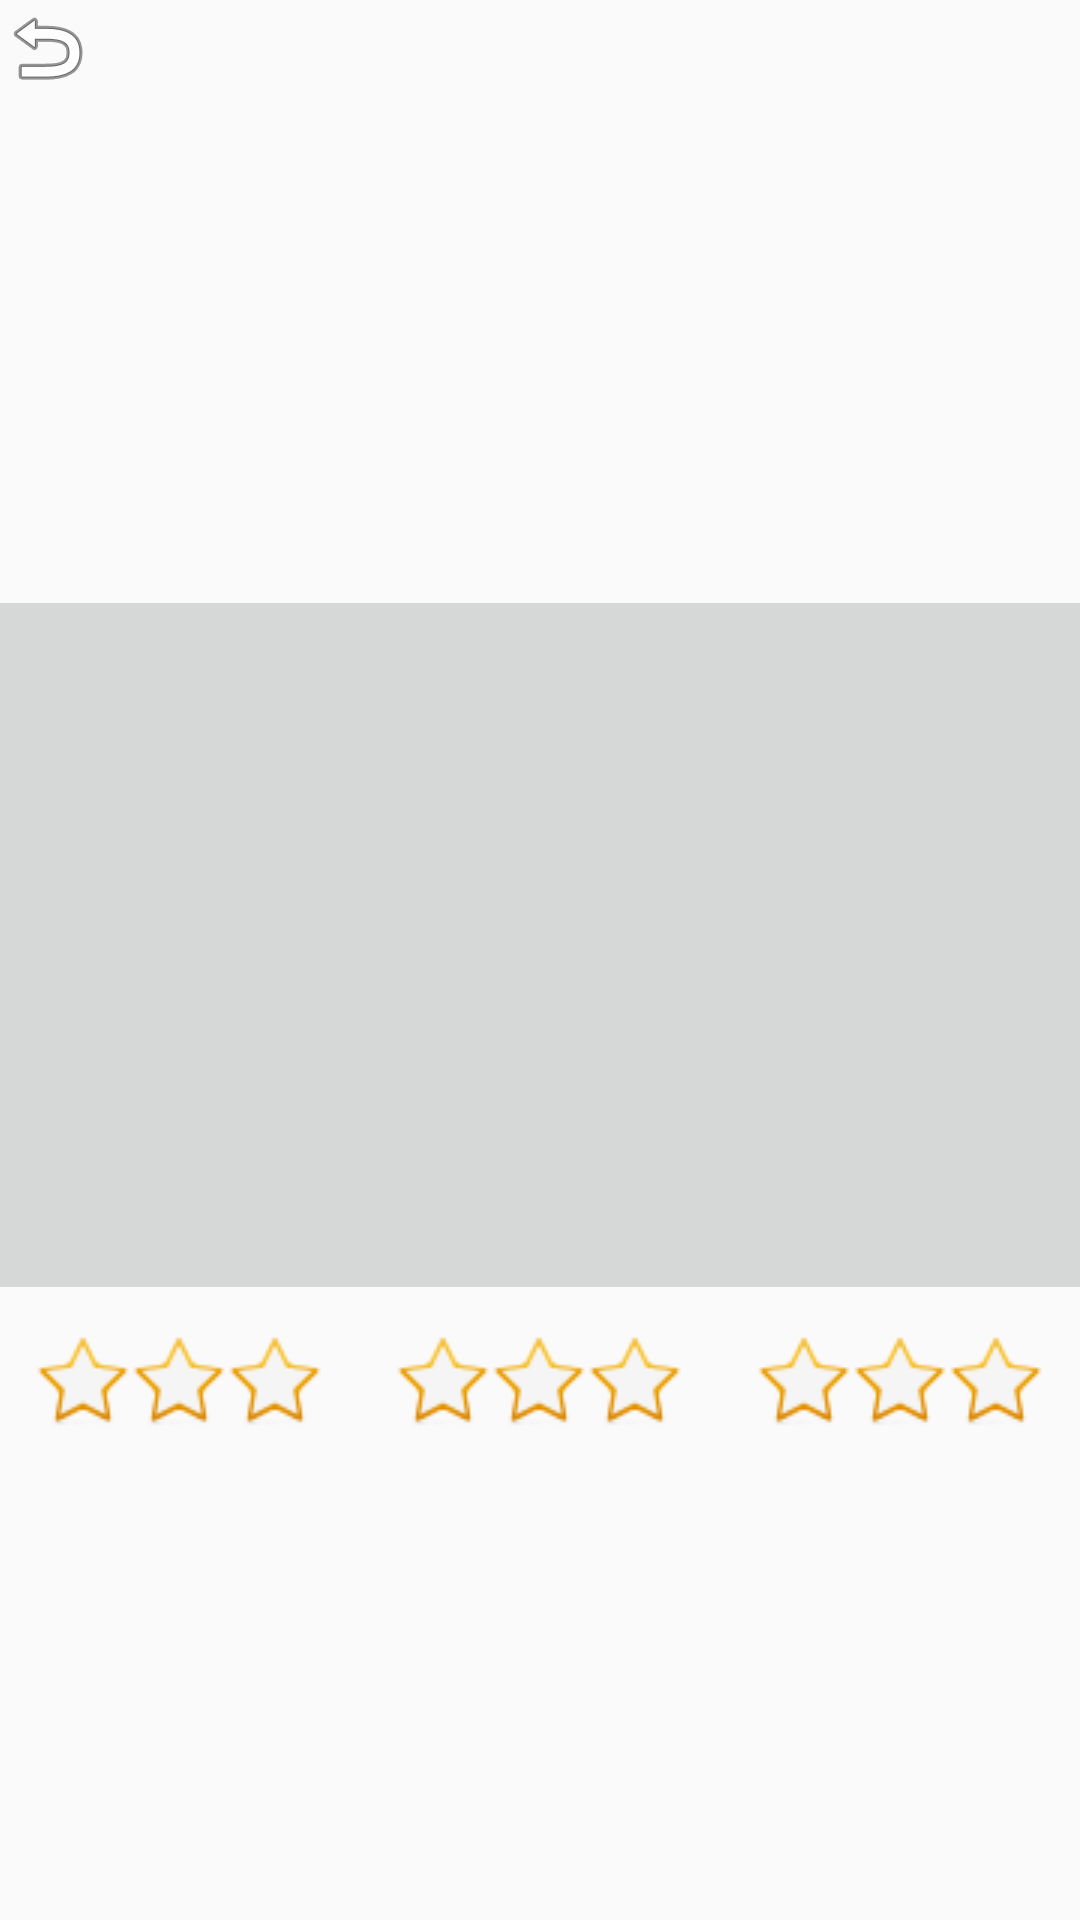

Icons on this 1080px x 1920px Android screen, each with its box as bbox(x1, y1, x2, y2):
Back: bbox(14, 17, 83, 80)
